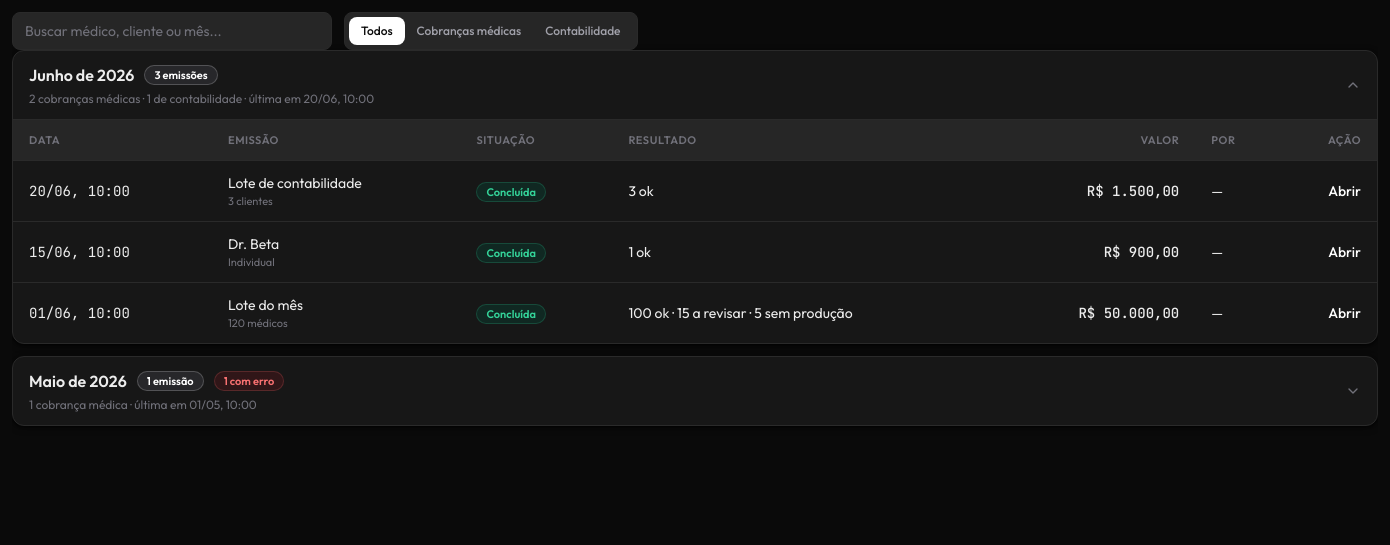
Scenario: HistoricoExecucoes › sinaliza no resumo o mês que tem emissão com erro
Expected: the text "1 com erro" is shown, [214, 371, 284, 391]
Click the button "Maio de 2026": (78, 381) [13, 357, 1377, 425]
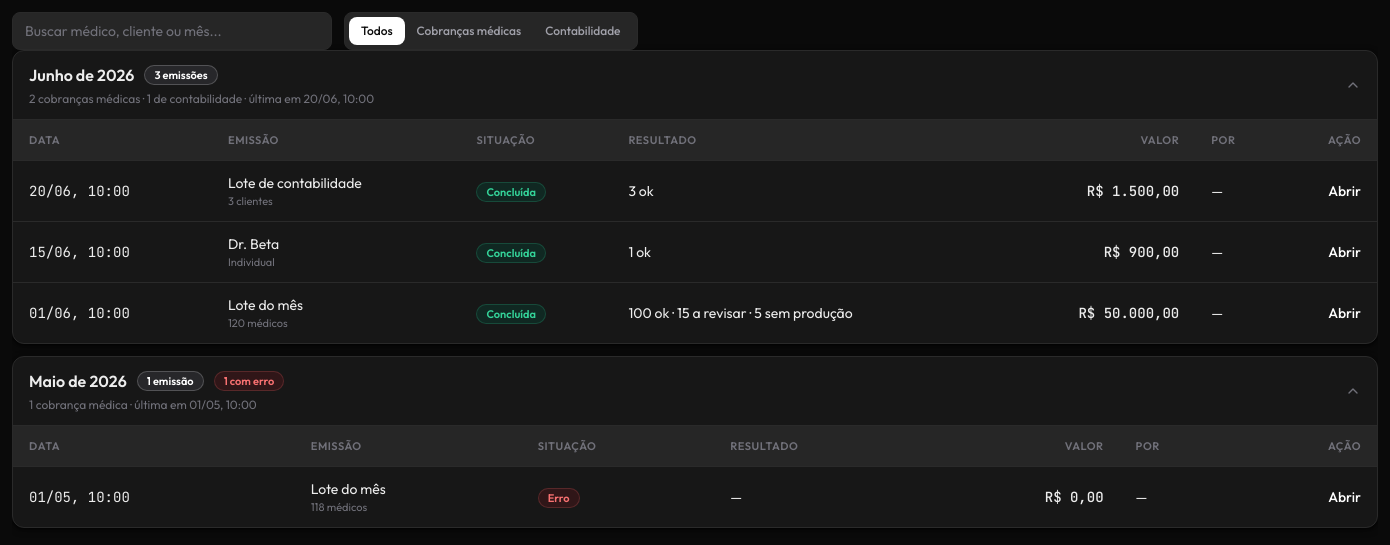
Expected: the text "Erro" is shown, [538, 488, 580, 508]
